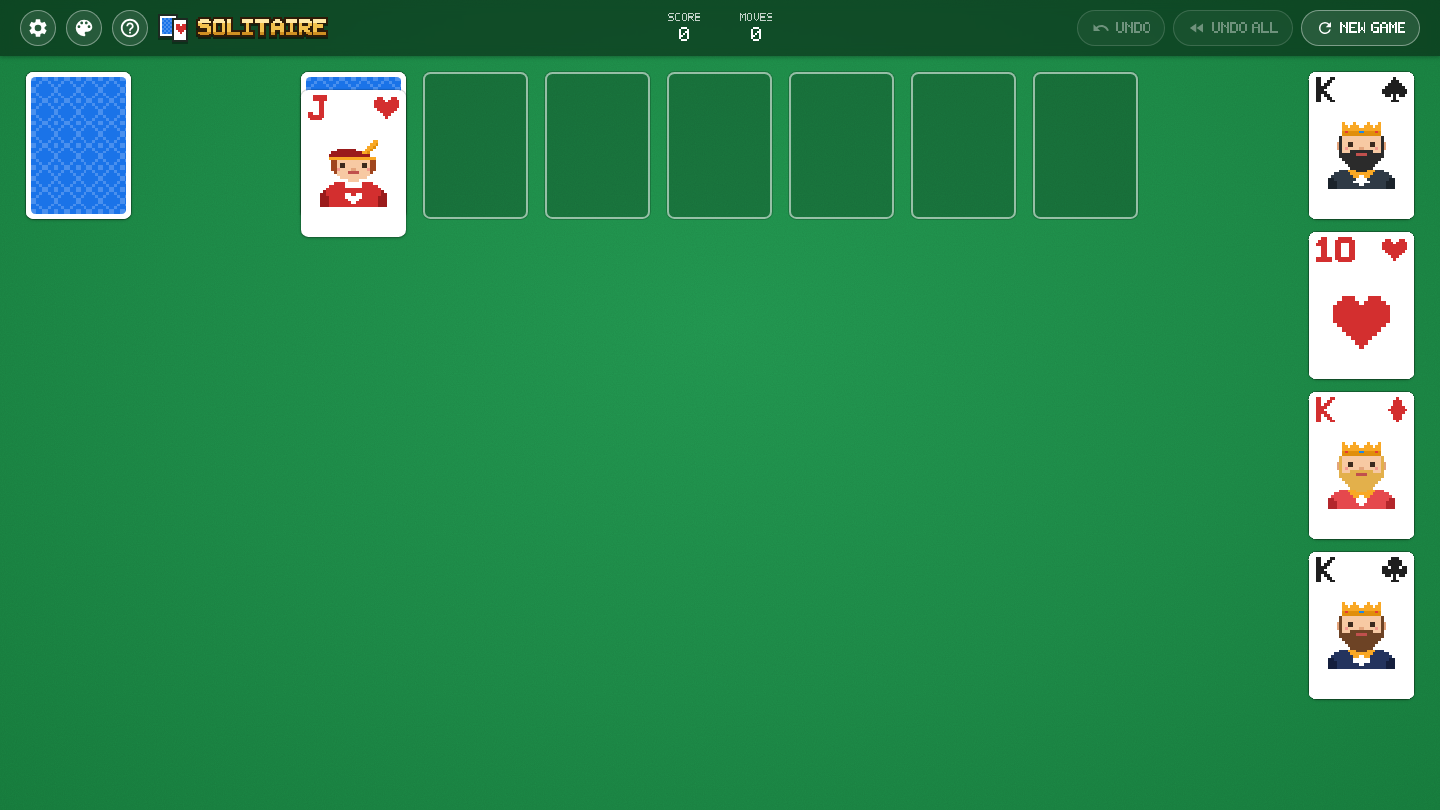
god mode › New game stops it
Click the button named "Settings" at (38,28), box [20,10,56,46]
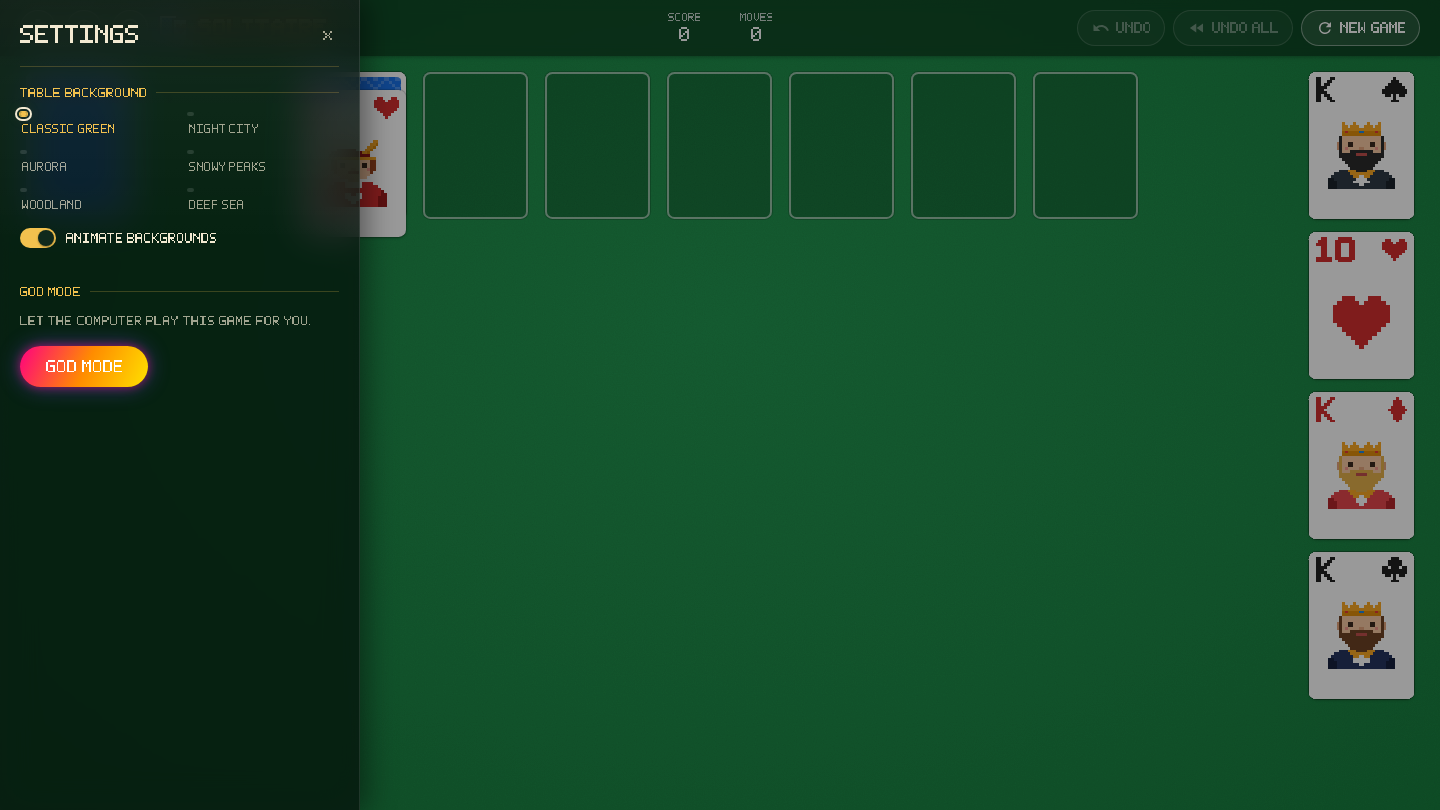
Click the button named "God mode" at (84,366), box [20,346,148,387]
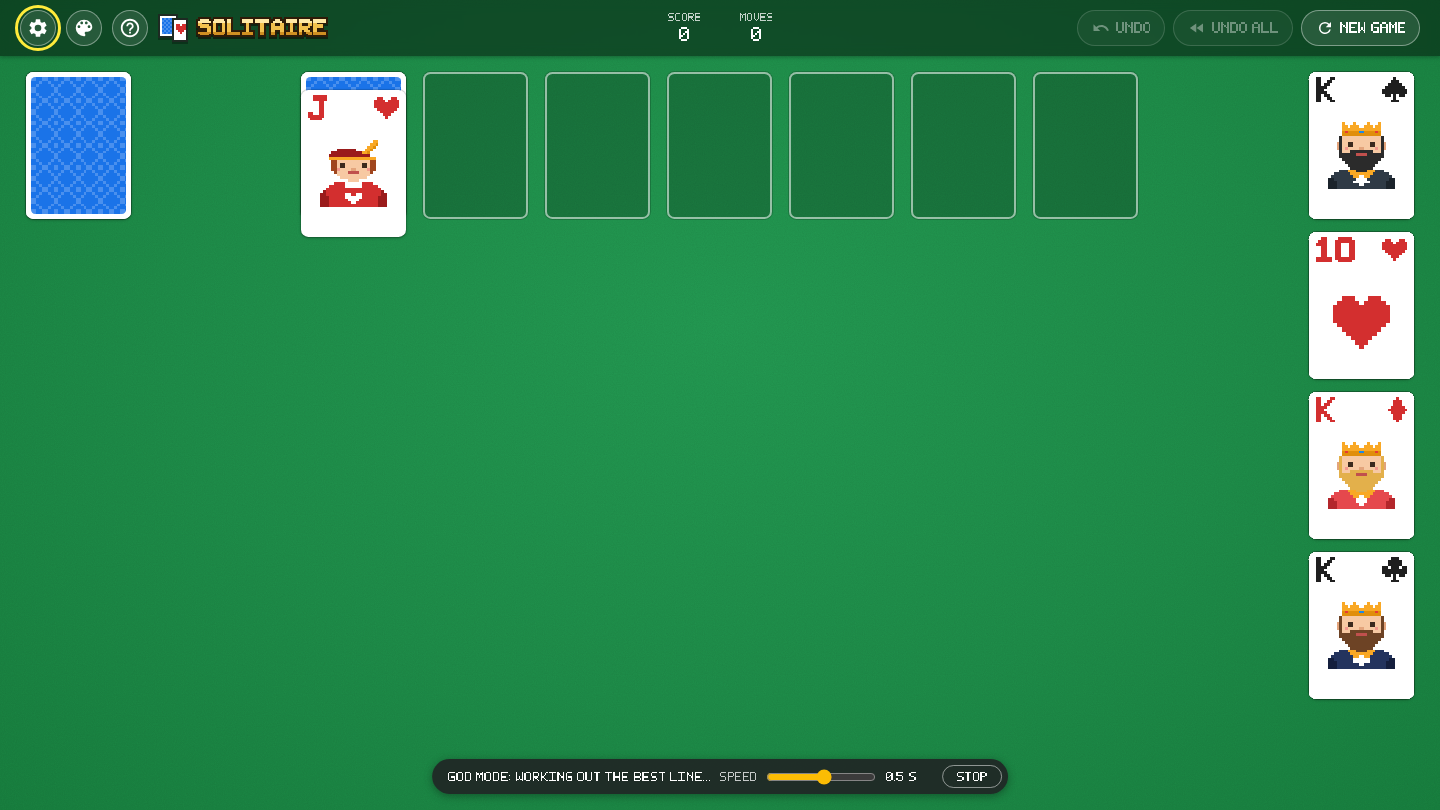
expect the dialog "Settings" is not shown: met
Click the button named "New game" at (1360,28), box [1301,10,1420,46]
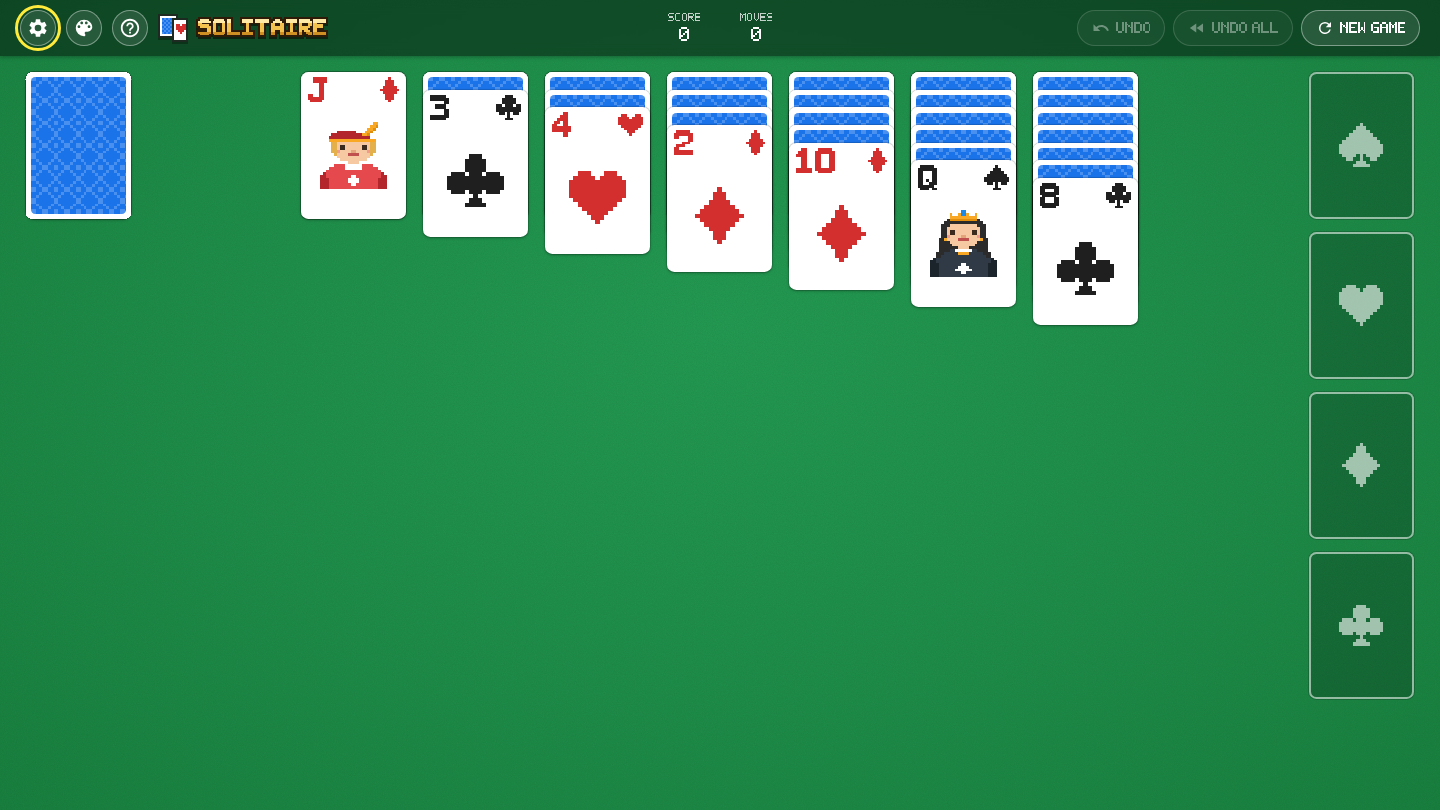
expect the message with test id "god-banner" is gone: met
